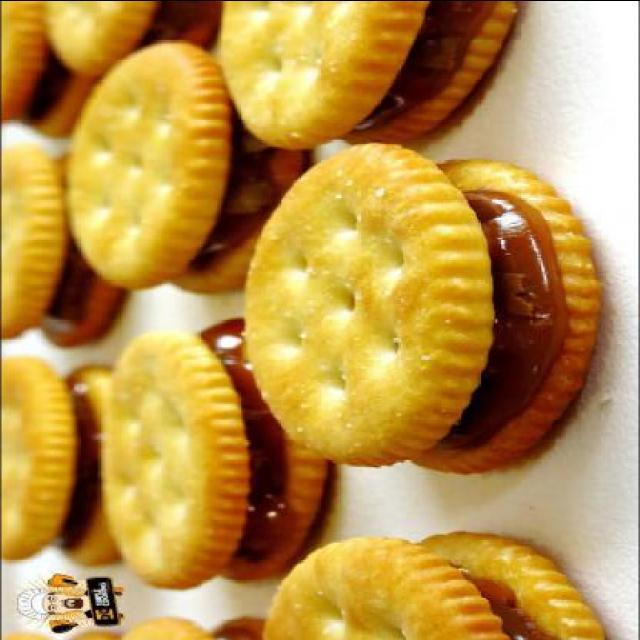Ritz cracker packaged: (8, 1, 612, 582)
